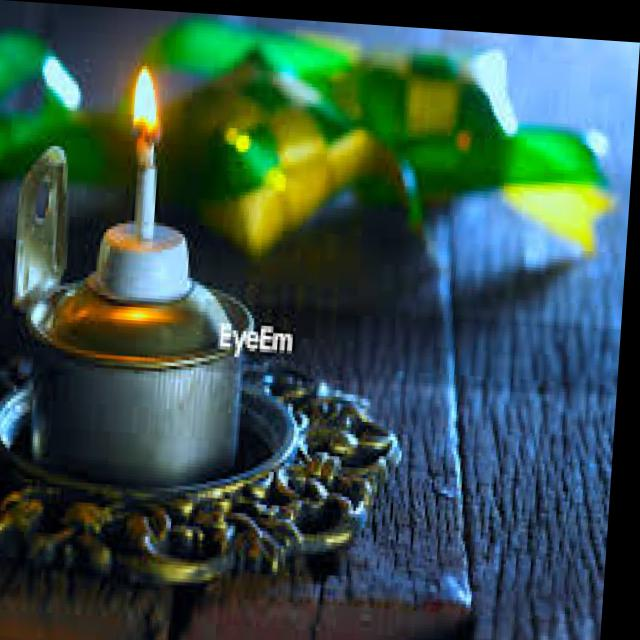fire: (121, 53, 166, 151)
